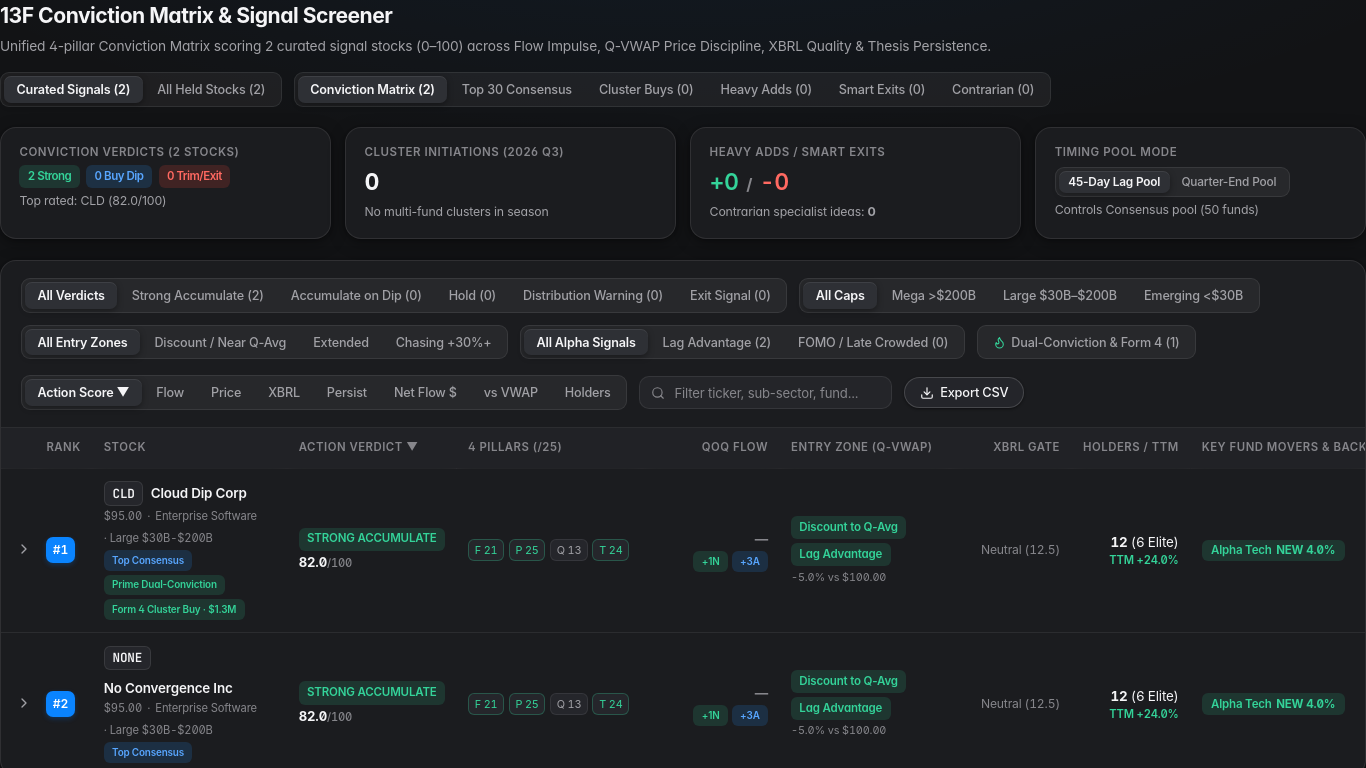
Test: Convergence Feed UI across UpdatesTab, StockDetailDrawer, and HoldingsTab › filters HoldingsTab Matrix rows via Dual-Conviction & Form 4 toggle and renders badges
expect the text "Cloud Dip Corp" is shown: met, box [151,483,247,504]
expect the text "No Convergence Inc" is shown: met, box [104,678,233,698]
Click the button "Dual-Conviction & Form 4 (1)": (1086, 342) [981,329,1192,355]
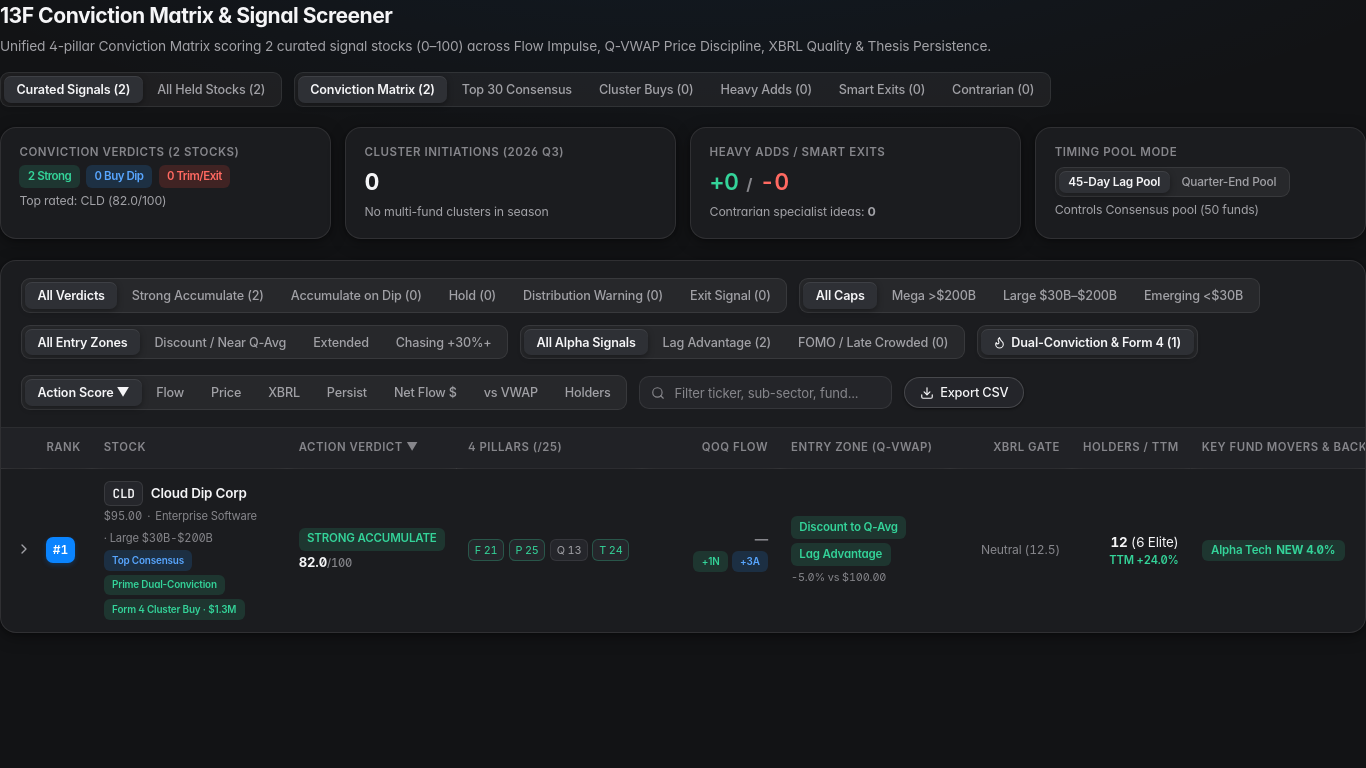
expect the text "Cloud Dip Corp" is shown: met, box [151,483,247,504]
expect the text "No Convergence Inc" is gone: met
